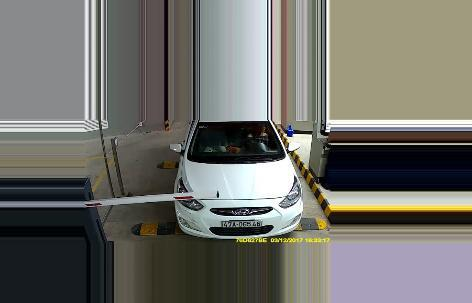License_Plate: (223, 220, 264, 228)
